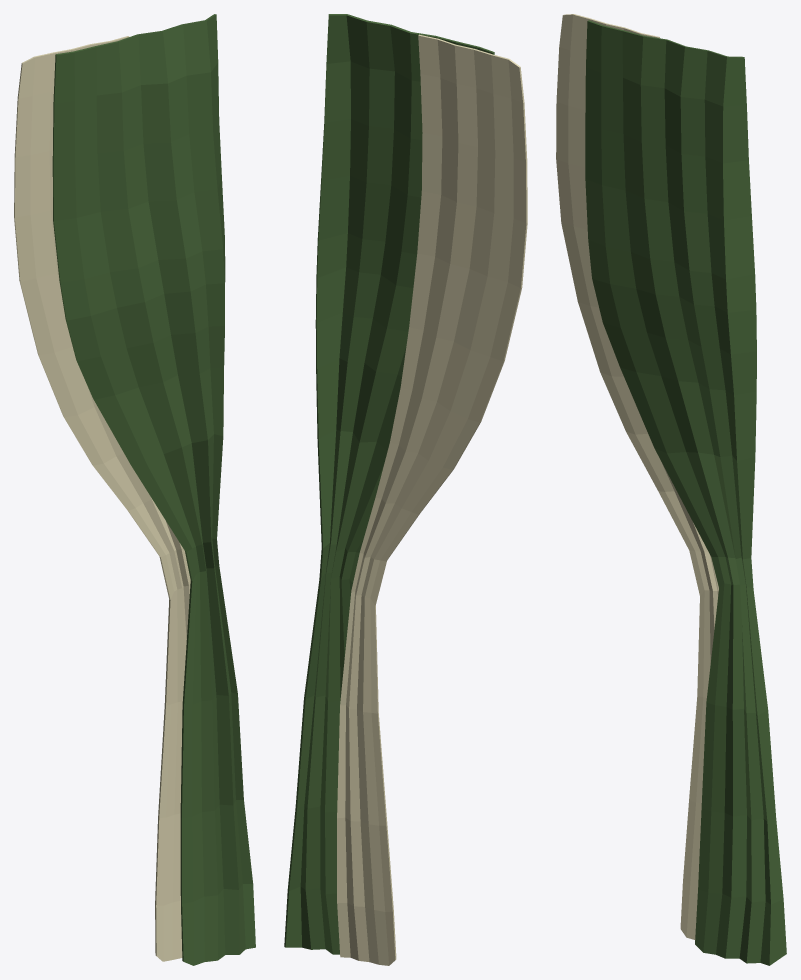
Rendered from Curtain_1_R.fbx.
The picture shows the model from 3 angles, left to right: view 1: azimuth 30°, elevation 25°; view 2: azimuth 150°, elevation 25°; view 3: azimuth 330°, elevation 25°; orthographic projection. The views are drawn at different scales.
Visible parts, largest first — view 1: Curtain_1_R; view 2: Curtain_1_R; view 3: Curtain_1_R.
Boxes of the visible parts, x1,y1,x2,y2 form: Curtain_1_R: [14, 14, 255, 965]; Curtain_1_R: [284, 14, 527, 965]; Curtain_1_R: [556, 14, 786, 965].
Bounding box in the file's own units: 52.06 × 195 × 7.
